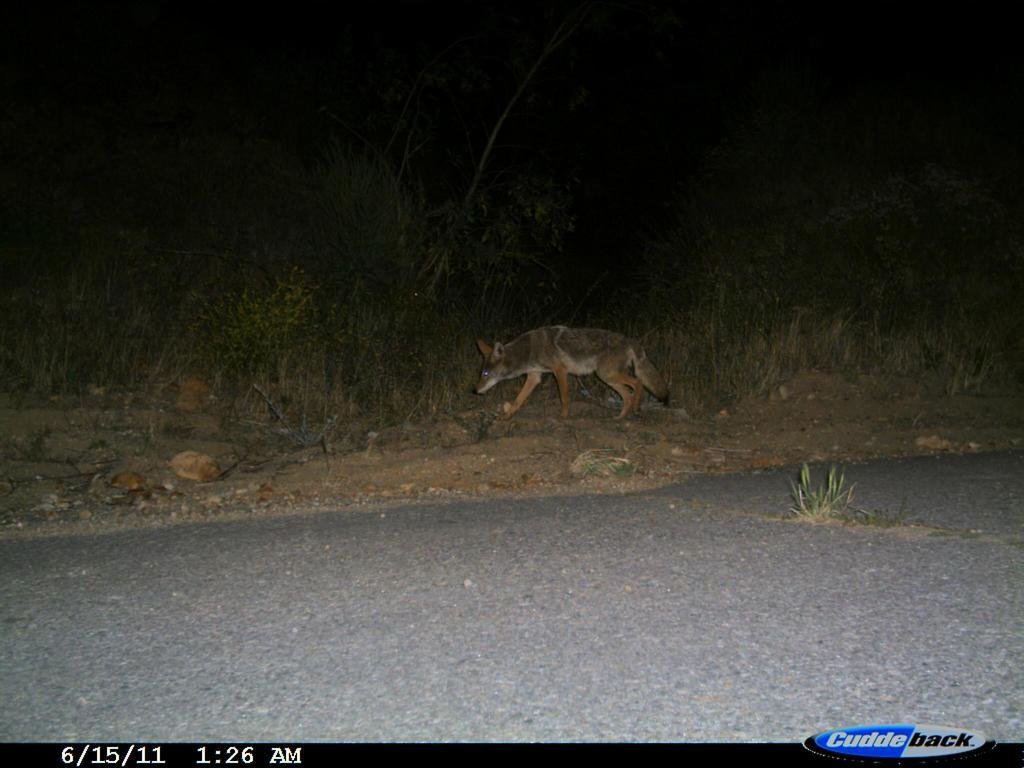coyote: (454, 314, 673, 432)
